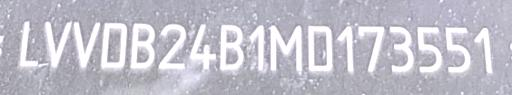letter: (266, 24, 304, 73), (386, 22, 416, 77), (443, 25, 473, 78), (304, 23, 336, 72), (43, 18, 73, 69), (188, 20, 218, 71), (216, 21, 246, 72), (414, 23, 442, 76), (98, 20, 128, 69), (158, 20, 188, 69), (72, 20, 102, 69), (356, 24, 384, 73), (470, 24, 494, 81), (129, 19, 155, 68), (19, 18, 41, 69), (335, 24, 357, 73), (246, 19, 266, 72)
